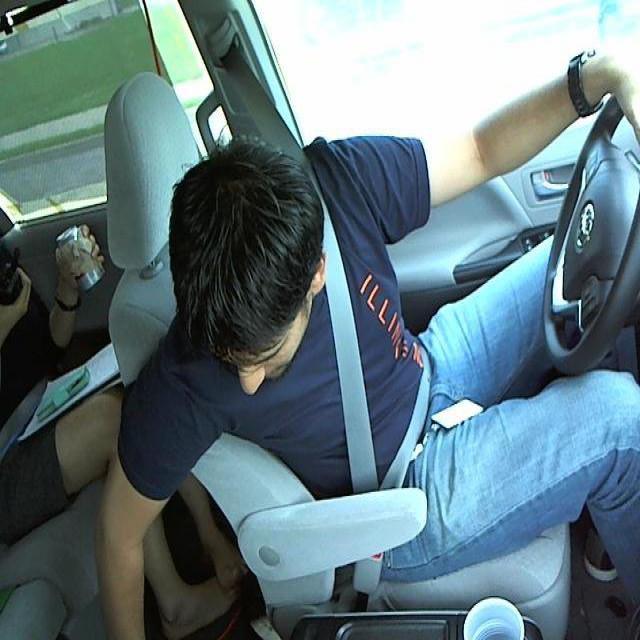seatbelt: (304, 229, 441, 528)
